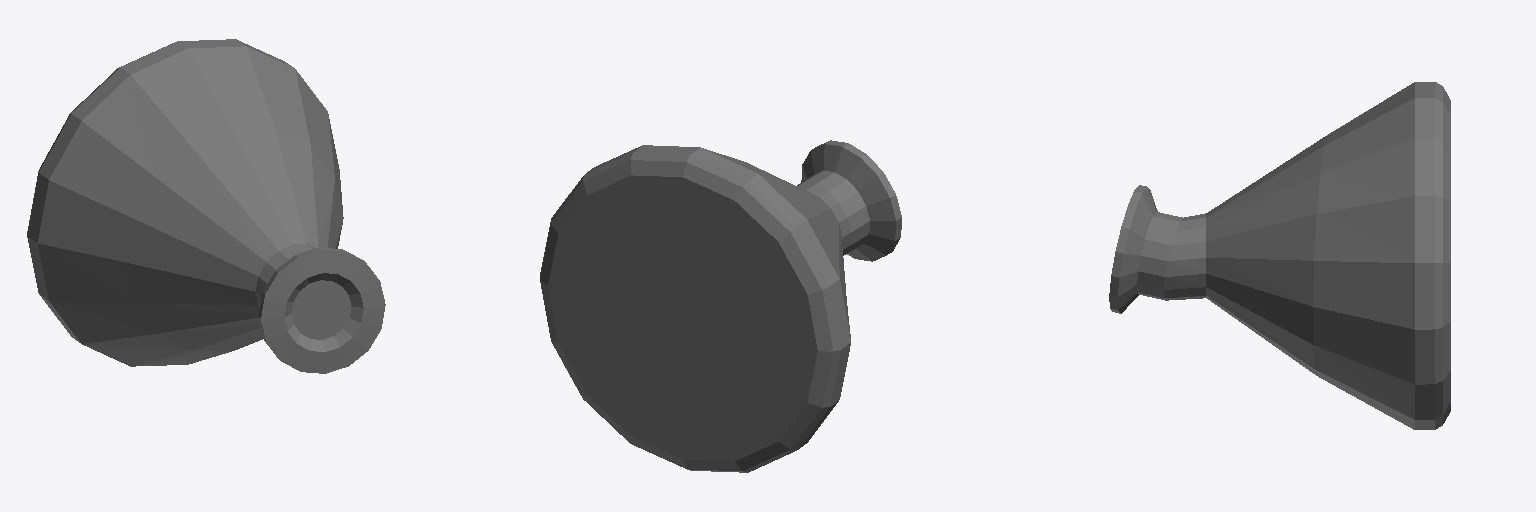
Rendered from Flask.obj.
The picture shows the model from 3 angles: view 1: azimuth 30°, elevation 25°; view 2: azimuth 150°, elevation 25°; view 3: azimuth 270°, elevation 25°; orthographic projection.
Parts seen in each view (by area): view 1: Flask; view 2: Flask; view 3: Flask.
Part boxes in pixels (x1,y1,x2,y2): Flask: (27, 39, 385, 373); Flask: (540, 140, 901, 472); Flask: (1109, 82, 1450, 429).
Bounding box in the file's own units: 142 × 142 × 139.